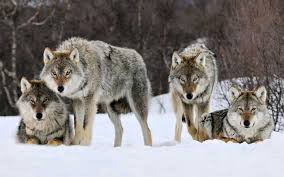Lobo: (41, 30, 160, 146), (167, 34, 218, 144), (12, 70, 66, 152), (219, 80, 277, 155)
